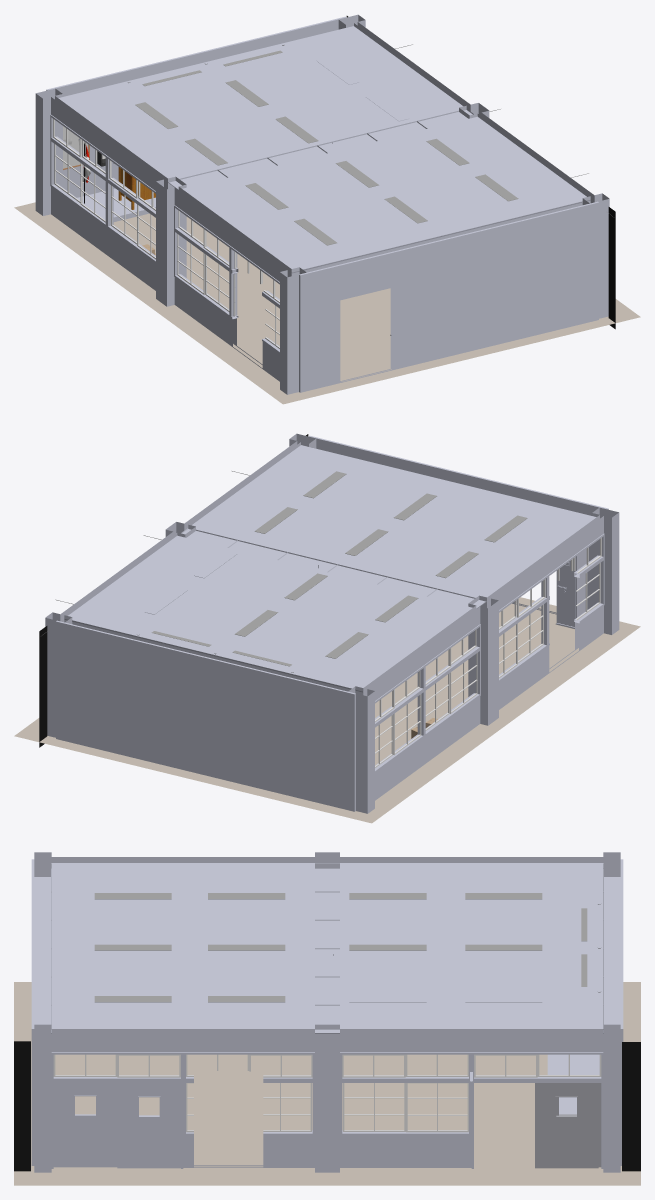
File: big_school_jp.glb
3 renders of one model, top to bottom at view 1: azimuth 30°, elevation 25°; view 2: azimuth 150°, elevation 25°; view 3: azimuth 270°, elevation 25°, orthographic. The views are drawn at different scales.
Parts seen in each view (by area): view 1: 69_Walls, 35_Floor, 02_CeilingLight, 74_WindowFrame, 04_Black, 00_Walls; view 2: 69_Walls, 35_Floor, 02_CeilingLight, 74_WindowFrame, 18_Walls, 05_Black, 00_Walls; view 3: 69_Walls, 35_Floor, 02_CeilingLight, 73_Wall, 74_WindowFrame, 05_Black, 04_Black, 00_Walls.
Boxes of the visible parts, left/top/right/bottom form: 69_Walls: left=35, top=14, right=609, bottom=394; 35_Floor: left=14, top=202, right=640, bottom=404; 02_CeilingLight: left=135, top=50, right=518, bottom=245; 74_WindowFrame: left=53, top=119, right=279, bottom=348; 04_Black: left=608, top=207, right=615, bottom=329; 00_Walls: left=316, top=58, right=408, bottom=121; 69_Walls: left=45, top=433, right=619, bottom=813; 35_Floor: left=14, top=597, right=640, bottom=823; 02_CeilingLight: left=152, top=471, right=527, bottom=666; 74_WindowFrame: left=375, top=538, right=601, bottom=767; 18_Walls: left=555, top=549, right=586, bottom=628; 05_Black: left=39, top=626, right=47, bottom=747; 00_Walls: left=144, top=551, right=236, bottom=614; 69_Walls: left=31, top=852, right=623, bottom=1172; 35_Floor: left=14, top=982, right=640, bottom=1185; 02_CeilingLight: left=94, top=893, right=587, bottom=1002; 73_Wall: left=535, top=1083, right=601, bottom=1168; 74_WindowFrame: left=53, top=1054, right=601, bottom=1132; 05_Black: left=622, top=1042, right=640, bottom=1171; 04_Black: left=14, top=1041, right=30, bottom=1171; 00_Walls: left=349, top=996, right=542, bottom=1002.
Size of the model in its own units: 9.74 by 3.22 by 12.68.
Materials: 29 (2 with a texture image).
